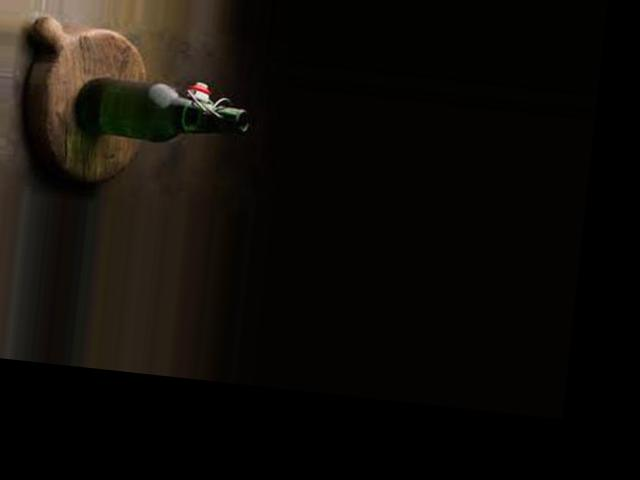beer: (77, 74, 254, 149)
